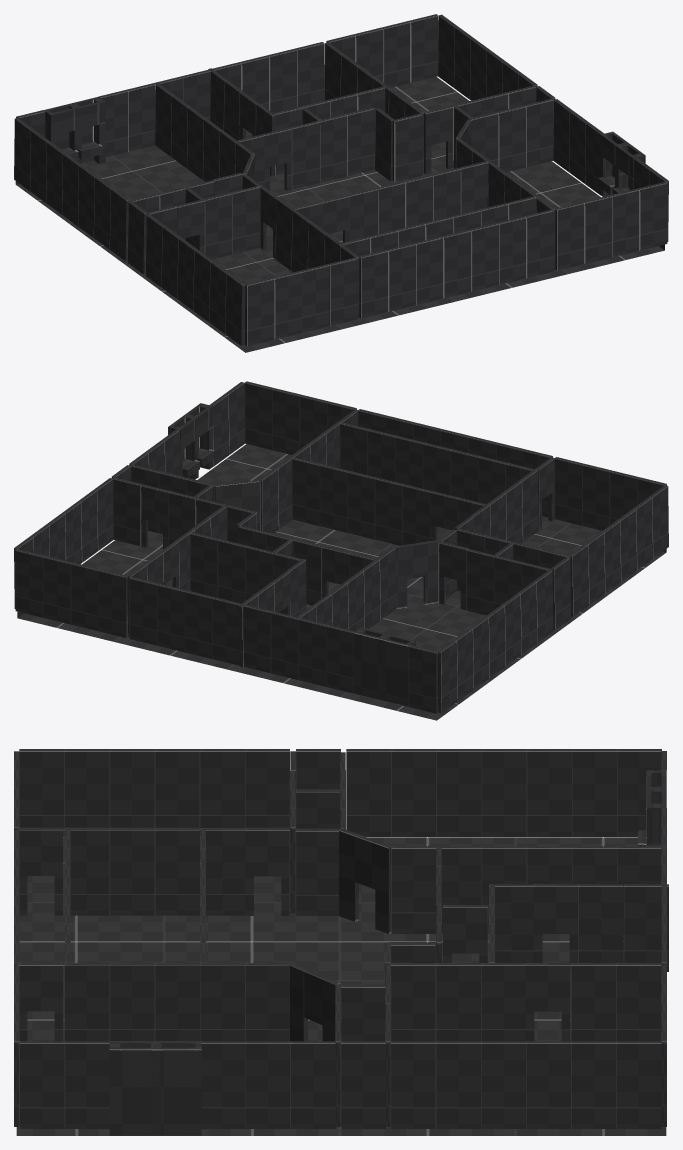
Rendered from DHF2BlockOutTest270923.fbx.
3 views of the same model, one above another, from view 1: azimuth 30°, elevation 25°; view 2: azimuth 150°, elevation 25°; view 3: azimuth 270°, elevation 25° (orthographic). The views are drawn at different scales.
Parts seen in each view (by area): view 1: Plane.001, 50MWall.228, 50MWall.320, 50MWall.253, 50MWall.247, 50MWall.234, 50MWall.252, 50MWall.246, 50MWall.248, 50MWall.235, 50MWall.251, 50MWall.293 (+86 smaller); view 2: Plane.001, Door25.001, 50MWall.217, 50MWall.228, 50MWall.308, 50MWall.292, 50MWall.252, 50MWall.224, 50MWall.291, 50MWall.312, 50MWall.227, 50MWall.245 (+86 smaller); view 3: Plane.001, 50MWall.204, 50MWall.223, Door25.001, 50MWall.230, 50MWall.231, 50MWall.218, 50MWall.220, 50MWall.221, 50MWall.267, 50MWall.272, 50MWall.278 (+58 smaller).
Part boxes in pixels (bbox=[...]): Plane.001: bbox=[15, 76, 664, 352]; 50MWall.228: bbox=[68, 96, 105, 164]; 50MWall.320: bbox=[392, 113, 422, 182]; 50MWall.253: bbox=[245, 277, 274, 346]; 50MWall.247: bbox=[555, 202, 584, 270]; 50MWall.234: bbox=[359, 250, 388, 318]; 50MWall.252: bbox=[328, 257, 357, 325]; 50MWall.246: bbox=[638, 181, 667, 250]; 50MWall.248: bbox=[583, 195, 612, 263]; 50MWall.235: bbox=[442, 229, 471, 298]; 50MWall.251: bbox=[273, 271, 302, 339]; 50MWall.293: bbox=[409, 14, 438, 82]; Plane.001: bbox=[17, 444, 666, 720]; Door25.001: bbox=[394, 540, 439, 608]; 50MWall.217: bbox=[377, 633, 415, 706]; 50MWall.228: bbox=[354, 627, 390, 700]; 50MWall.308: bbox=[408, 645, 438, 713]; 50MWall.292: bbox=[98, 569, 127, 637]; 50MWall.252: bbox=[554, 457, 583, 525]; 50MWall.224: bbox=[374, 477, 403, 545]; 50MWall.291: bbox=[70, 562, 99, 630]; 50MWall.312: bbox=[270, 611, 299, 679]; 50MWall.227: bbox=[319, 464, 348, 532]; 50MWall.245: bbox=[292, 457, 320, 525]; Plane.001: bbox=[16, 837, 666, 1135]; 50MWall.204: bbox=[109, 1041, 160, 1135]; 50MWall.223: bbox=[151, 1041, 201, 1135]; Door25.001: bbox=[339, 828, 391, 933]; 50MWall.230: bbox=[154, 827, 199, 915]; 50MWall.231: bbox=[109, 827, 154, 915]; 50MWall.218: bbox=[245, 1041, 290, 1128]; 50MWall.220: bbox=[64, 1041, 109, 1128]; 50MWall.221: bbox=[19, 1041, 64, 1128]; 50MWall.267: bbox=[290, 1041, 335, 1128]; 50MWall.272: bbox=[340, 1041, 385, 1128]; 50MWall.278: bbox=[616, 1041, 661, 1128].
Size of the model in its own units: 3999 by 593 by 3677.
